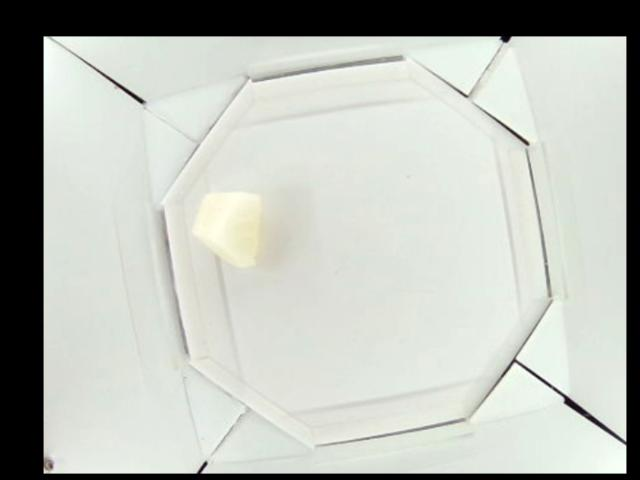Mooli: (191, 192, 263, 268)
